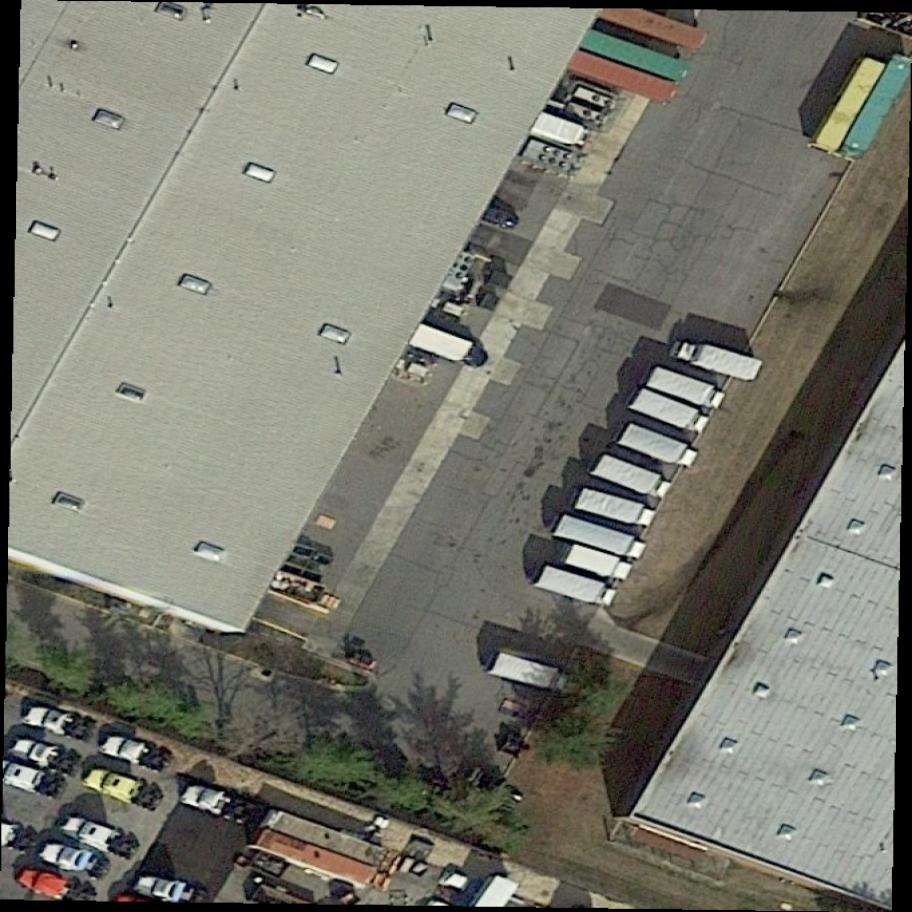large-vehicle: (404, 316, 499, 377), (481, 647, 588, 699), (528, 558, 624, 615), (586, 448, 679, 504), (554, 513, 654, 565), (667, 335, 770, 385), (543, 537, 637, 591), (619, 384, 714, 437), (619, 421, 705, 472), (641, 363, 730, 412), (575, 488, 661, 531)
small-vehicle: (477, 204, 523, 232)
